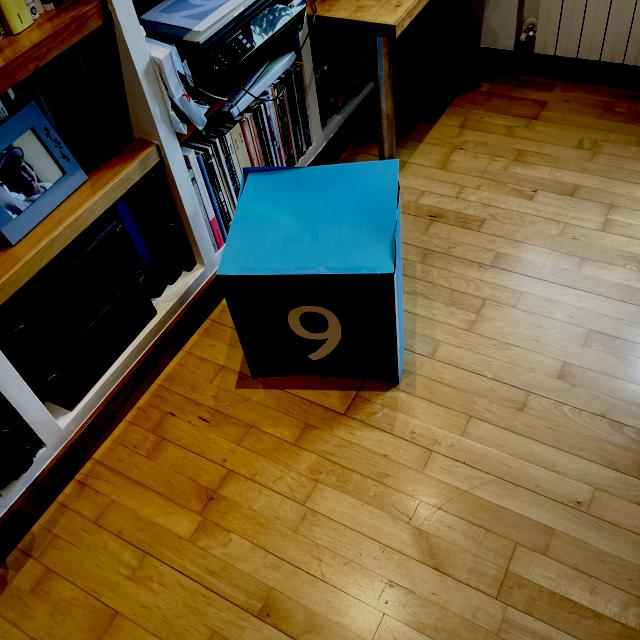box: (214, 156, 408, 386)
